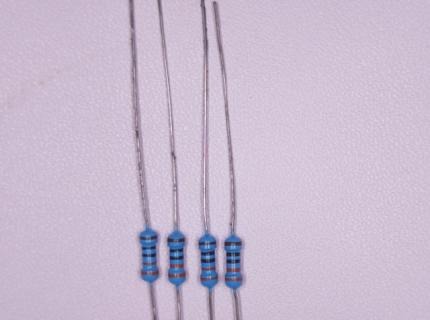Black band: (201, 251, 215, 256), (142, 253, 156, 257), (201, 259, 215, 263), (170, 256, 183, 260), (142, 247, 156, 250), (170, 249, 183, 252), (227, 260, 240, 263), (227, 253, 240, 256)
Brown band: (140, 235, 158, 239), (168, 238, 185, 242), (199, 241, 216, 245), (225, 242, 242, 246)
Orange band: (168, 273, 186, 278), (141, 271, 159, 275), (200, 277, 218, 281), (202, 266, 215, 271), (170, 264, 184, 268), (227, 268, 241, 272), (143, 261, 156, 265), (225, 278, 242, 281)
